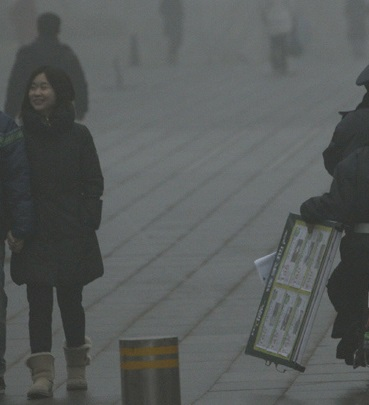person: (11, 65, 104, 398), (299, 146, 369, 368), (4, 11, 93, 126), (1, 111, 34, 398), (321, 63, 369, 179), (262, 1, 304, 75), (157, 1, 188, 66)
